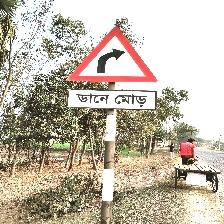Right-turn: (65, 25, 159, 112)
